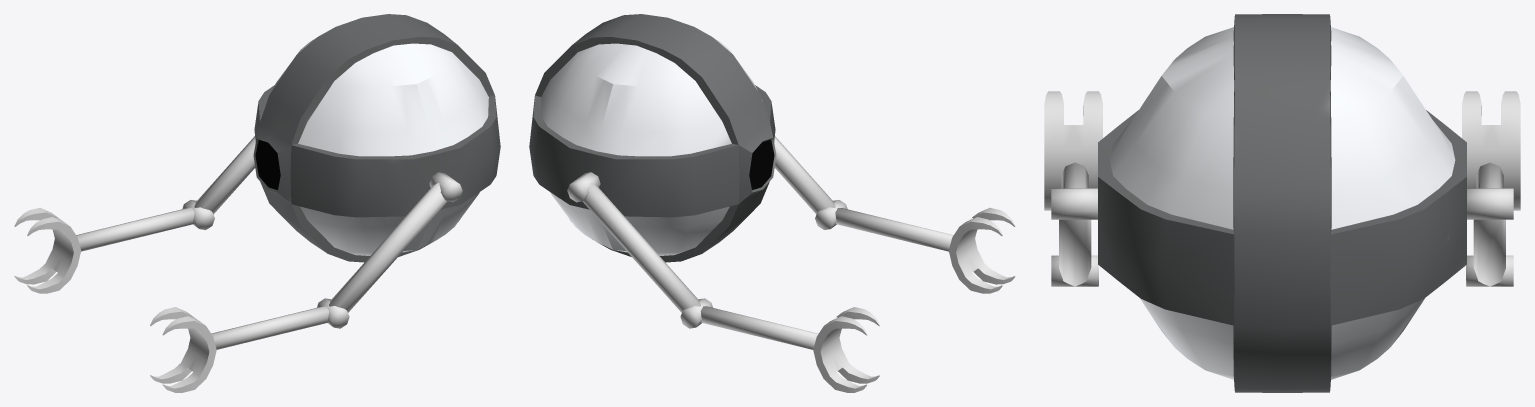
Rendered from robot.fbx.
3 renders of one model, left to right at view 1: azimuth 30°, elevation 25°; view 2: azimuth 150°, elevation 25°; view 3: azimuth 270°, elevation 25°, orthographic. The views are drawn at different scales.
Visible parts, largest first — view 1: Robot, Claws, Arms, LowerArms, Elbows, Shoulders; view 2: Robot, Claws, Arms, LowerArms, Elbows, Shoulders; view 3: Robot, Claws, Arms, Shoulders, Elbows, LowerArms.
Part boxes in pixels (x1,y1,x2,y2): Robot: [253, 14, 500, 262]; Claws: [14, 207, 216, 392]; Arms: [194, 136, 447, 312]; LowerArms: [76, 207, 328, 349]; Elbows: [182, 200, 349, 328]; Shoulders: [429, 172, 462, 202]; Robot: [529, 14, 776, 262]; Claws: [813, 207, 1015, 392]; Arms: [582, 136, 835, 312]; LowerArms: [700, 208, 953, 349]; Elbows: [680, 200, 847, 328]; Shoulders: [567, 172, 600, 202]; Robot: [1098, 14, 1466, 392]; Claws: [1044, 91, 1520, 210]; Arms: [1059, 219, 1505, 286]; Shoulders: [1051, 188, 1513, 219]; Elbows: [1051, 255, 1513, 286]; LowerArms: [1061, 162, 1503, 188].
Size of the model in its own units: 392 by 230 by 267.
